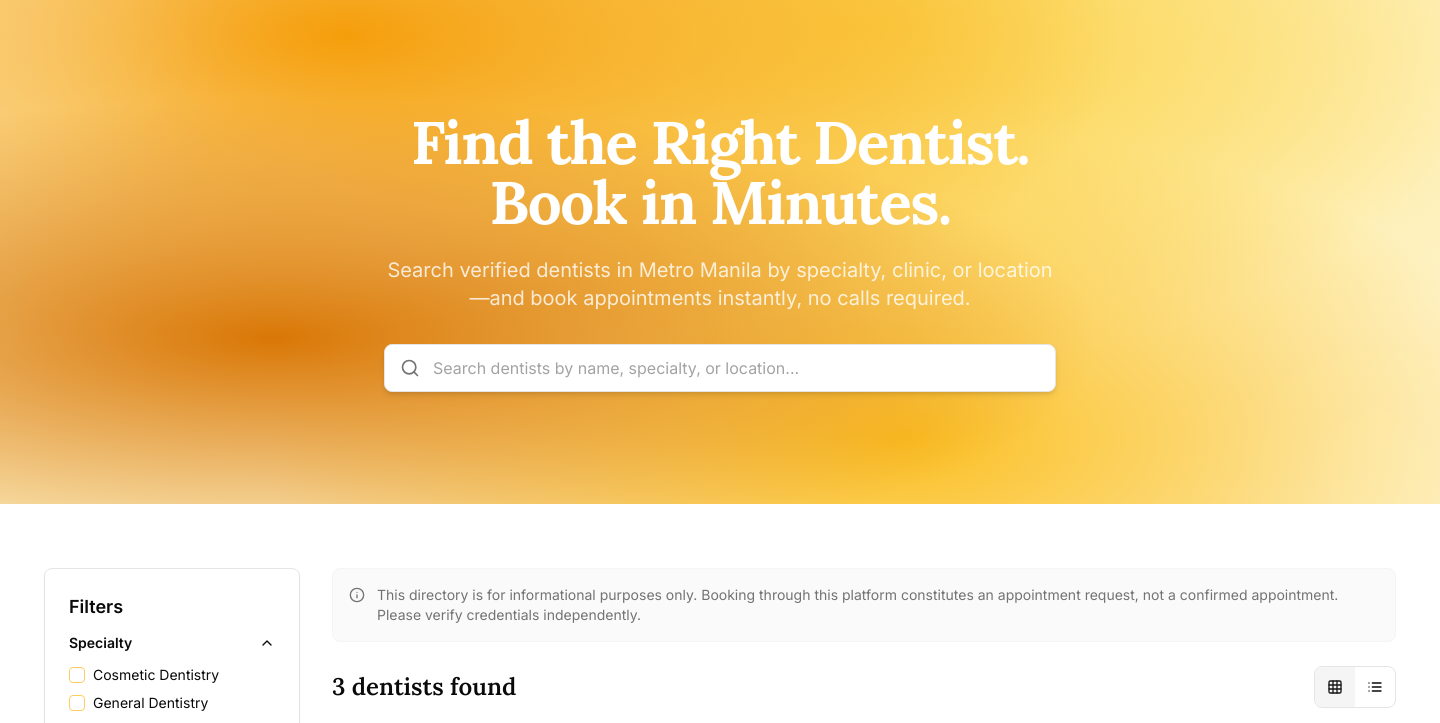
Test: Find a Dentist Directory Page › Search Functionality › shows no results when search matches nothing
The image size is (1440, 723).
Type "XYZ123NotFound" into the field with placeholder "Search dentists by name, specialty, or location..." at (720, 368), box [384,344,1056,392]
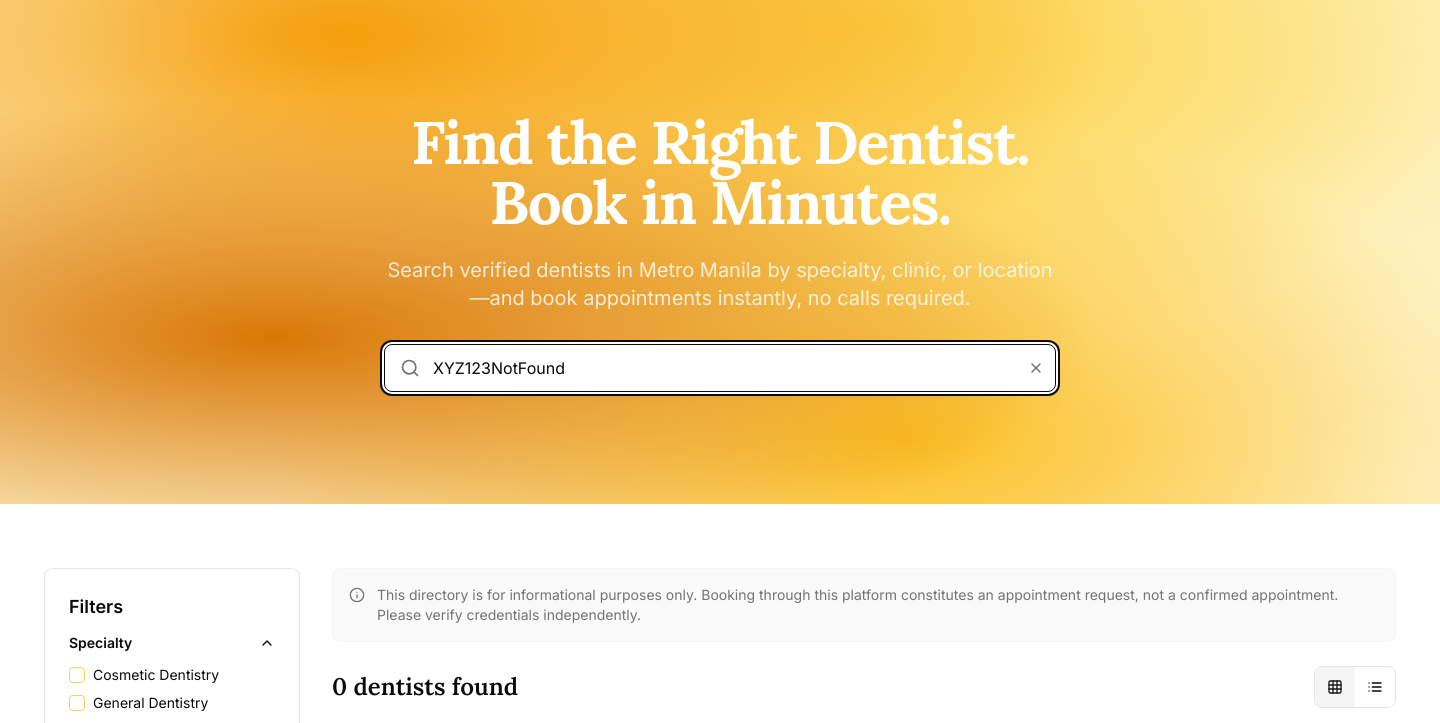
Now the heading "0 dentists found" is shown, box [332,671,518,703]
